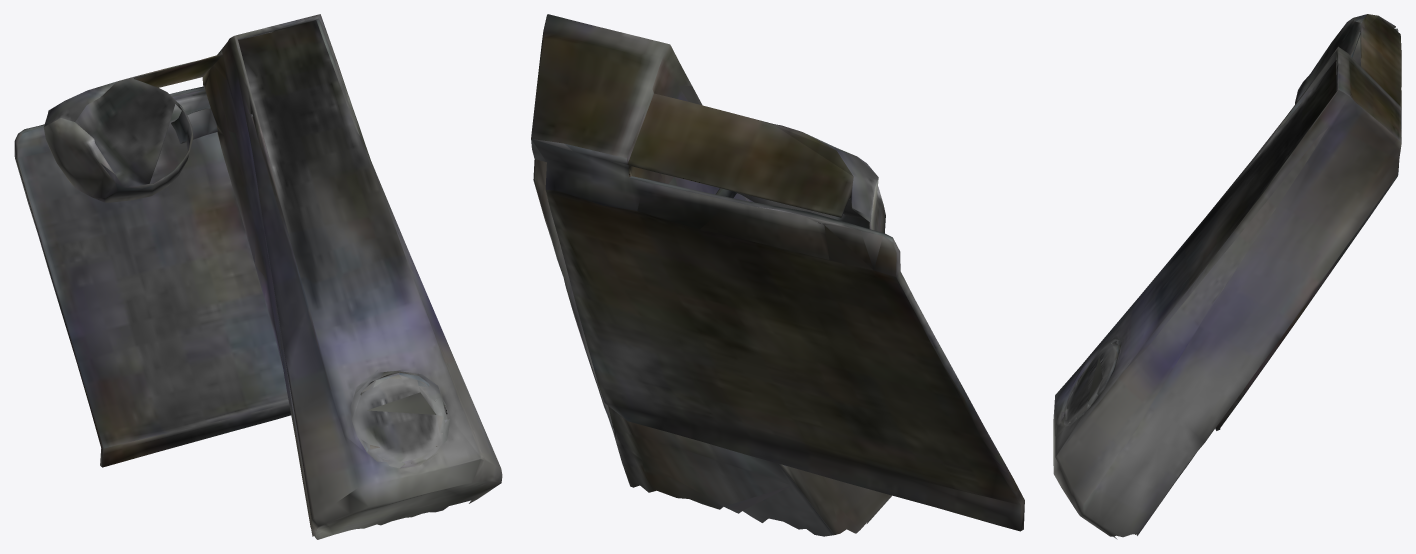
File: barra_aco.glb
3 renders of one model, left to right at view 1: azimuth 30°, elevation 25°; view 2: azimuth 150°, elevation 25°; view 3: azimuth 270°, elevation 25°, orthographic. The views are drawn at different scales.
Parts seen in each view (by area): view 1: geometry_0; view 2: geometry_0; view 3: geometry_0.
Boxes of the visible parts, <box> form: geometry_0: <box>14,14,502,539</box>; geometry_0: <box>531,14,1024,536</box>; geometry_0: <box>1053,14,1401,539</box>.
Bounding box in the file's own units: 0.8342 × 1 × 0.7325.
Materials: 1 (1 with a texture image).
